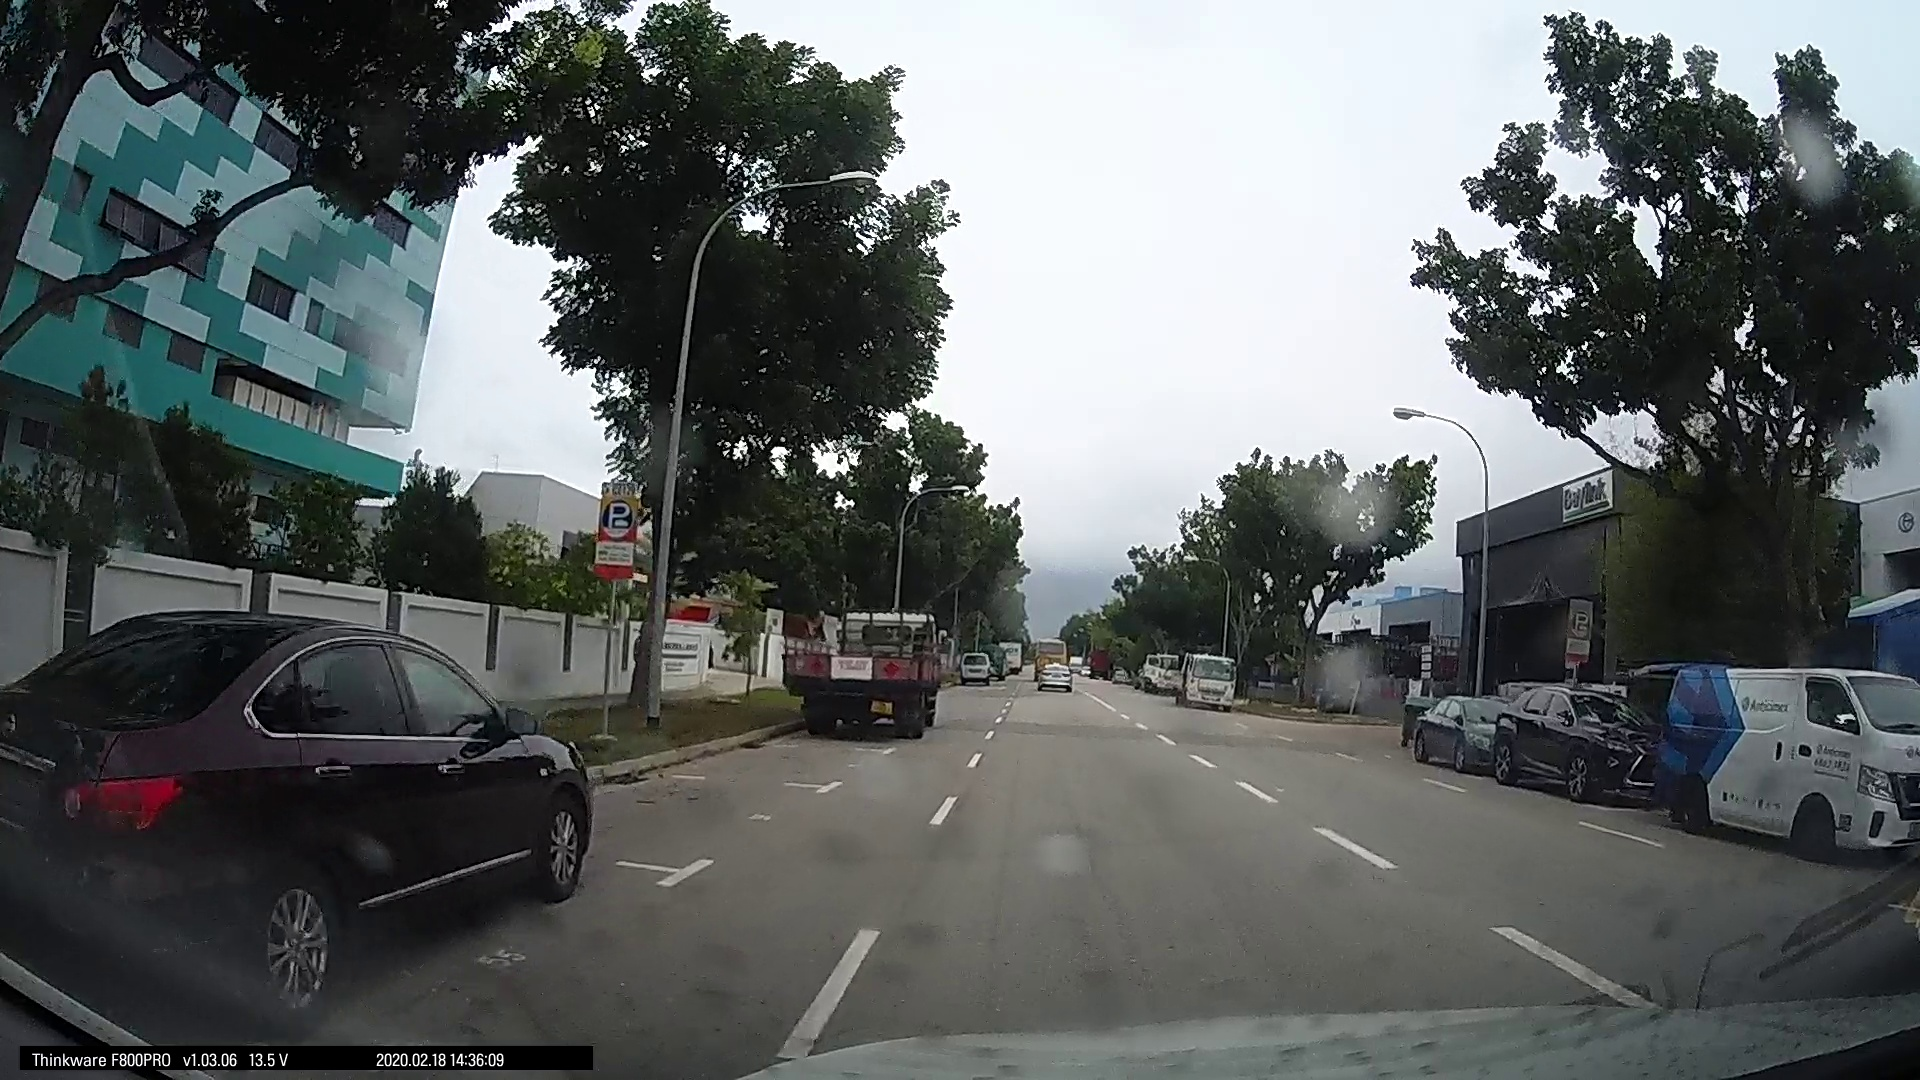Heavy Vehicle: (789, 604, 945, 738)
Light Vehicle: (1, 603, 605, 1004), (1638, 655, 1917, 857), (1491, 679, 1664, 802), (1404, 688, 1501, 774), (1174, 650, 1234, 705), (1031, 647, 1073, 688), (955, 645, 997, 684)
